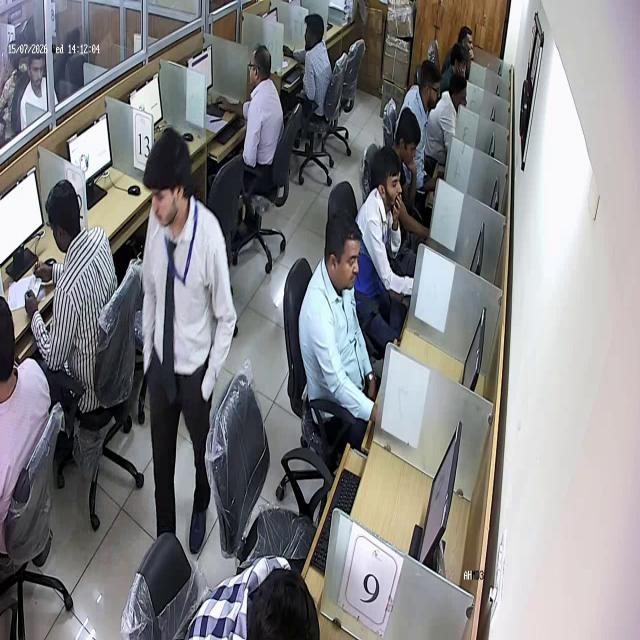paper-chit: (24, 274, 41, 298)
